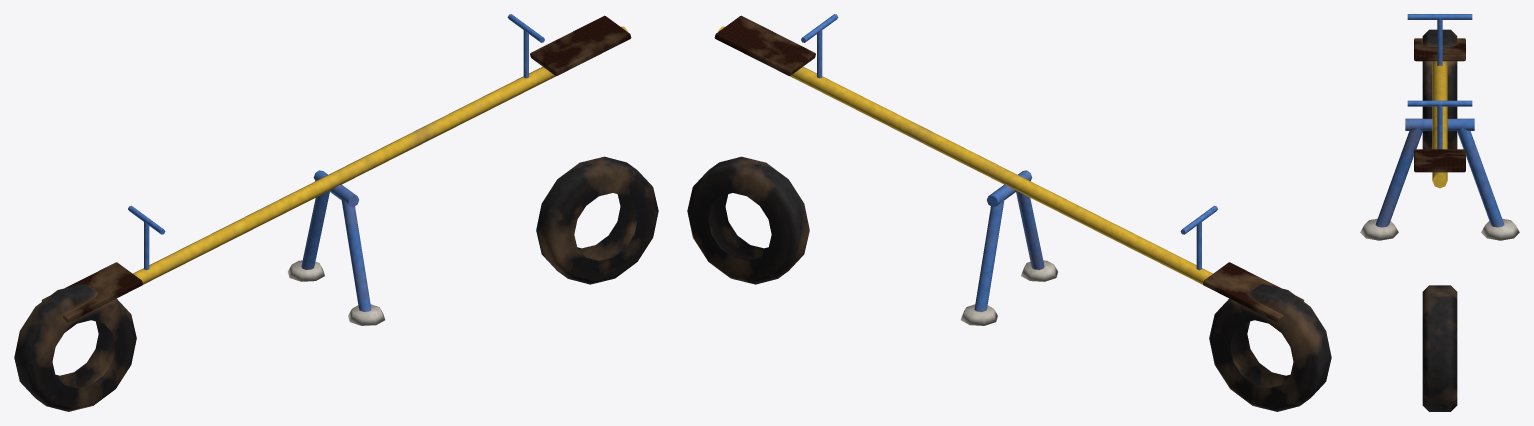
The model's file is plac_wazka.glb.
The picture shows the model from 3 angles, left to right: view 1: azimuth 30°, elevation 25°; view 2: azimuth 150°, elevation 25°; view 3: azimuth 270°, elevation 25°; orthographic projection.
Visible parts, largest first — view 1: Wazka; view 2: Wazka; view 3: Wazka.
Part boxes in pixels (box(x1,y1,x2,y2)): Wazka: box(14, 14, 658, 411); Wazka: box(687, 14, 1331, 411); Wazka: box(1360, 14, 1519, 411).
Bounding box in the file's own units: 3.4 × 1.38 × 0.74.
1 material, 1 textured.
